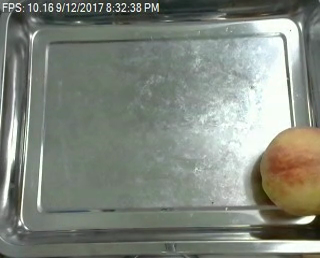Peach: (258, 126, 319, 217)
